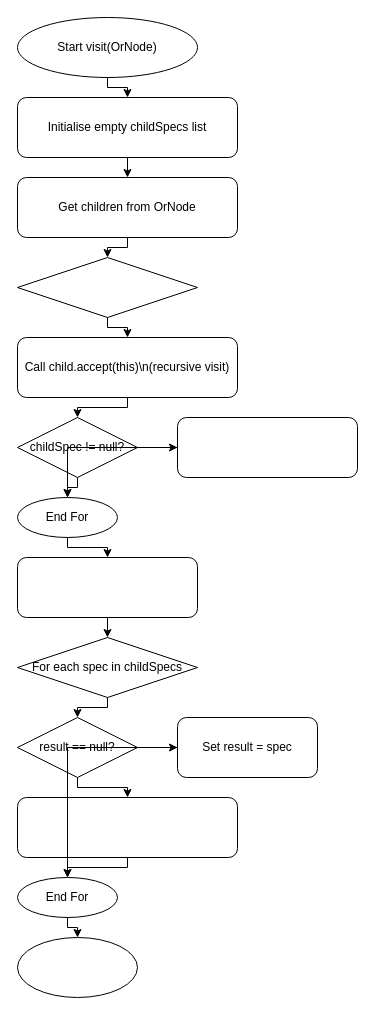
The diagram is 375 pixels wide and 1015 high, and some of its shapes have lost their labels. The shapes that lost their labels are listed below. From the top down, each one's box as (x1, y1, x2, y2) in pixels, then its label:
(16, 256, 198, 318): For each child in children
(176, 416, 358, 478): Add childSpec to childSpecs
(16, 556, 198, 618): Initialise result = null
(16, 796, 238, 858): Set result = result.or(spec)
(16, 936, 138, 998): Return result
